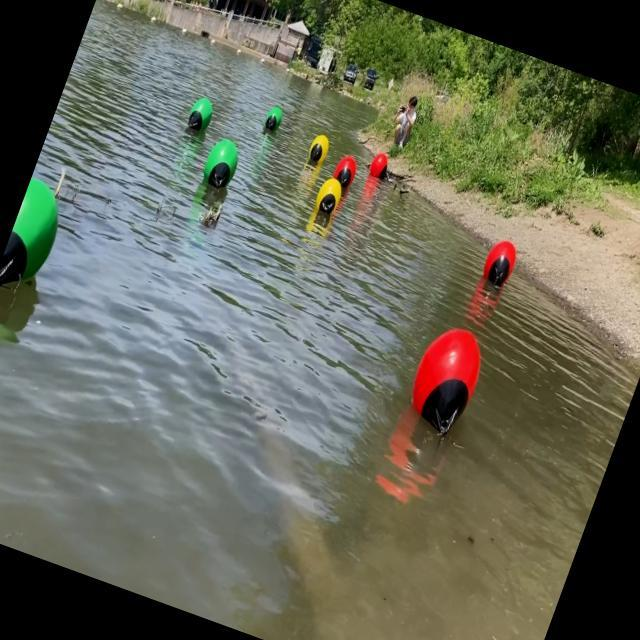buoy: (396, 314, 496, 452), (0, 174, 73, 305), (198, 133, 245, 195), (477, 233, 522, 294), (310, 175, 345, 224), (184, 94, 217, 136), (330, 150, 361, 188), (304, 131, 333, 169), (366, 150, 395, 185), (262, 104, 285, 132)
